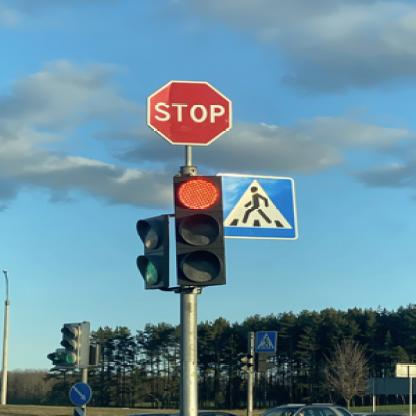Red Light: (172, 174, 227, 288)
Stop: (147, 81, 231, 146)
